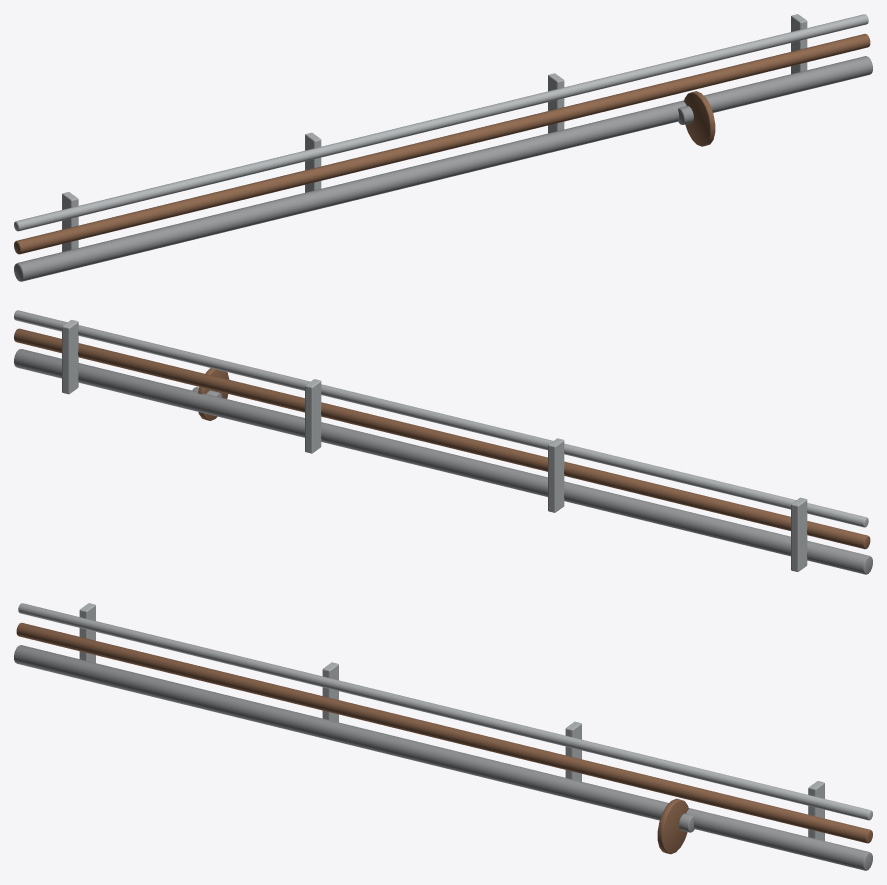
Rendered from prop_pipe_run.glb.
3 renders of one model, top to bottom at view 1: azimuth 30°, elevation 25°; view 2: azimuth 150°, elevation 25°; view 3: azimuth 330°, elevation 25°, orthographic.
Parts seen in each view (by area): view 1: Cylinder, Cylinder.001, Cylinder.002, Cylinder.003, Cube, Cube.001, Cube.002, Cube.003; view 2: Cylinder, Cylinder.001, Cylinder.002, Cube.003, Cube.002, Cube.001, Cube; view 3: Cylinder, Cylinder.001, Cylinder.002, Cylinder.003, Cube.003, Cube.001, Cube.002, Cube.
Boxes of the visible parts, x1,y1,x2,y2 form: Cylinder: (14,56,872,281); Cylinder.001: (14,34,870,254); Cylinder.002: (14,14,868,231); Cylinder.003: (684,91,715,146); Cube: (62,192,78,251); Cube.001: (305,132,321,192); Cube.002: (548,73,564,133); Cube.003: (791,14,807,73); Cylinder: (14,349,872,574); Cylinder.001: (14,328,870,549); Cylinder.002: (14,310,868,527); Cube.003: (62,320,78,394); Cube.002: (305,379,321,453); Cube.001: (548,438,564,512); Cube: (791,497,807,571); Cylinder: (14,645,872,870); Cylinder.001: (16,623,872,843); Cylinder.002: (18,603,872,820); Cylinder.003: (657,798,688,854); Cube.003: (808,781,824,840); Cube.001: (322,662,338,722); Cube.002: (565,721,581,781); Cube: (79,603,95,662).
Size of the model in its own units: 5.6 by 0.51 by 0.4576.
